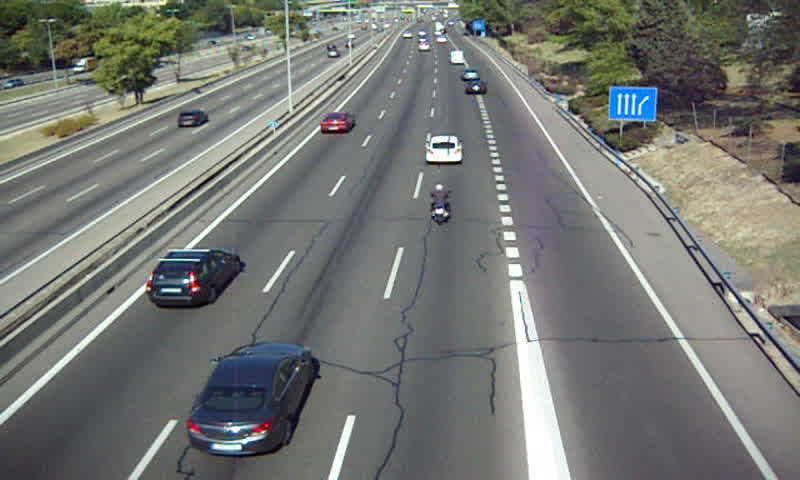car: (188, 343, 315, 455), (147, 251, 242, 307), (424, 136, 462, 165), (319, 112, 354, 134), (464, 81, 488, 95), (460, 68, 481, 82)
motorcycle: (428, 183, 450, 227)
van: (449, 49, 465, 64)
